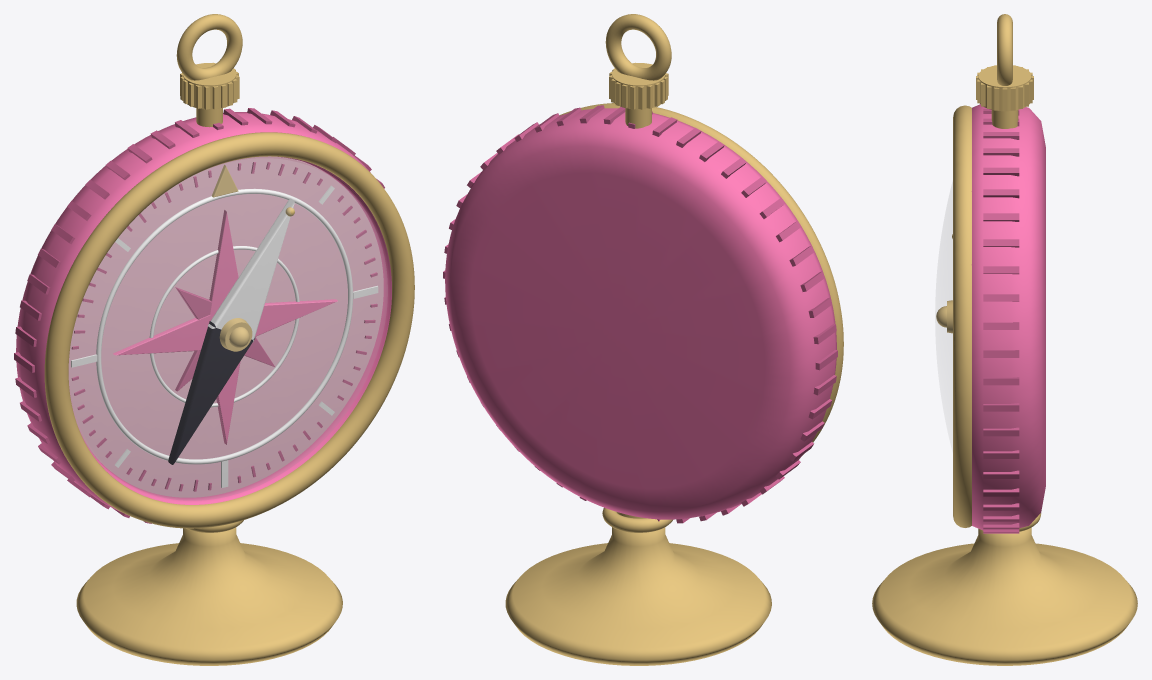
The model's file is lab-irc-bussolina.glb.
3 renders of one model, left to right at view 1: azimuth 30°, elevation 25°; view 2: azimuth 150°, elevation 25°; view 3: azimuth 270°, elevation 25°, orthographic.
Parts seen in each view (by area): view 1: cupola_vetro, quadrante, ghiera, piedistallo, cassa, rosa_venti, cerchio, ago_nord, ago_sud, anello, cerchio_interno, rosa_venti_minore (+1 smaller); view 2: cassa, piedistallo, ghiera, anello, collare, corona; view 3: piedistallo, cassa, ghiera, cupola_vetro, corona, anello, corona_stelo.
Part boxes in pixels (box(x1,y1,x2,y2)): cupola_vetro: box(69, 159, 387, 499); quadrante: box(68, 156, 383, 497); ghiera: box(44, 132, 414, 528); piedistallo: box(76, 527, 342, 665); cassa: box(16, 112, 391, 511); rosa_venti: box(113, 210, 337, 444); cerchio: box(96, 188, 352, 464); ago_nord: box(207, 198, 294, 341); ago_sud: box(168, 321, 255, 464); anello: box(176, 14, 242, 80); cerchio_interno: box(149, 246, 299, 407); rosa_venti_minore: box(175, 287, 274, 391); cassa: box(445, 108, 836, 519); piedistallo: box(505, 527, 771, 665); ghiera: box(559, 103, 843, 455); anello: box(605, 14, 671, 80); collare: box(602, 508, 672, 532); corona: box(612, 63, 665, 109); piedistallo: box(872, 527, 1137, 665); cassa: box(971, 104, 1045, 530); ghiera: box(953, 105, 971, 527); cupola_vetro: box(935, 183, 952, 450); corona: box(978, 65, 1031, 111); anello: box(997, 14, 1012, 85); corona_stelo: box(991, 110, 1018, 128).
Size of the model in its own units: 0.359 by 0.5435 by 0.22.
